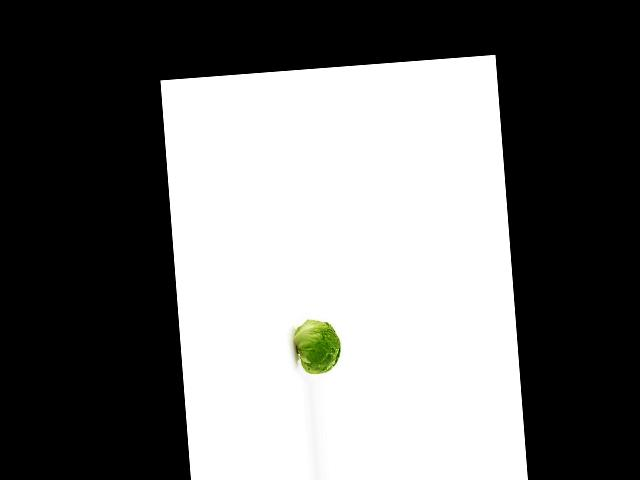lettuce: (295, 317, 344, 382)
